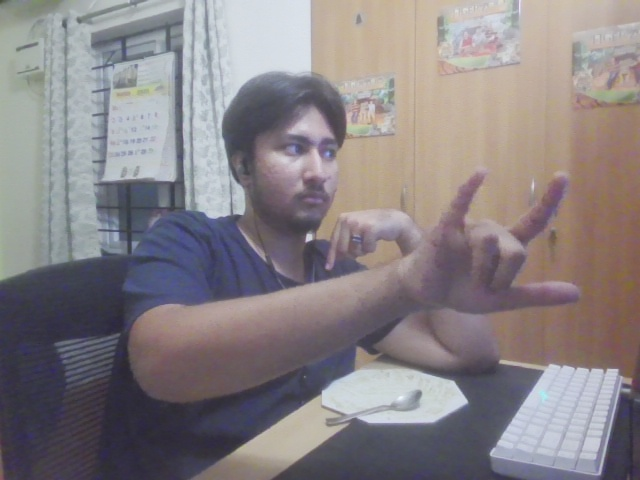iloveyou: (402, 169, 586, 316)
